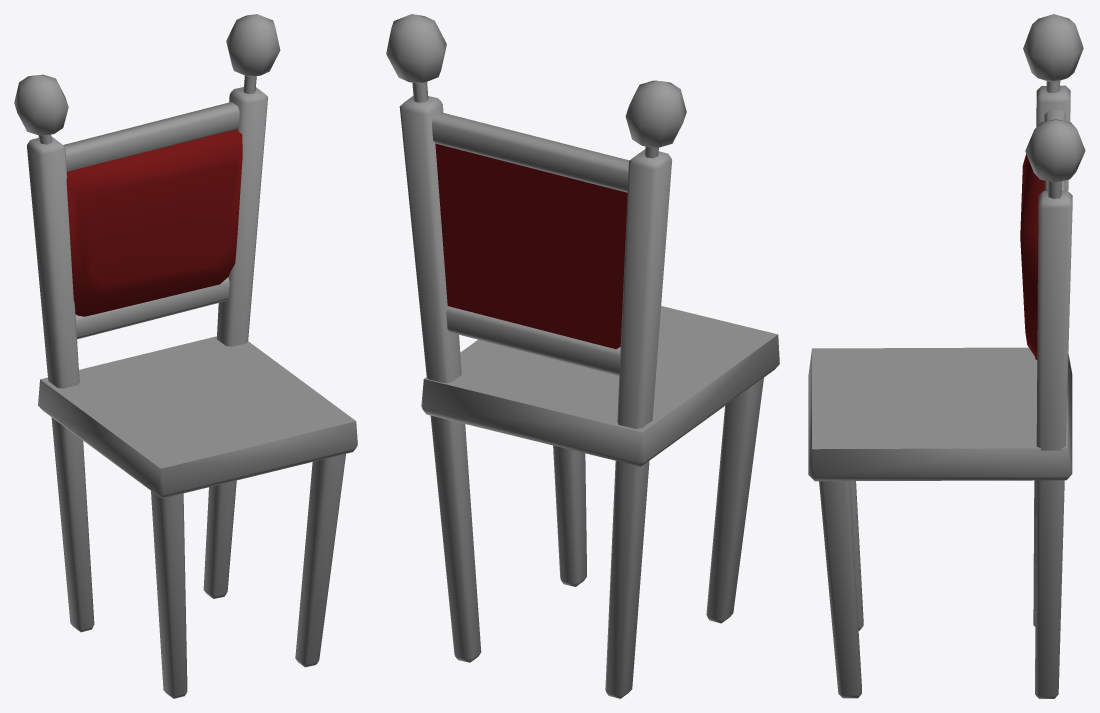
The model's file is chairA.FBX.
3 views of the same model, side by side, from view 1: azimuth 30°, elevation 25°; view 2: azimuth 150°, elevation 25°; view 3: azimuth 270°, elevation 25° (orthographic). The views are drawn at different scales.
Visible parts, largest first — view 1: chairA; view 2: chairA; view 3: chairA.
Part boxes in pixels (x1,y1,x2,y2): chairA: (14, 14, 357, 698); chairA: (386, 14, 779, 698); chairA: (808, 14, 1085, 698).
Bounding box in the file's own units: 3.05 × 6.32 × 2.65.
